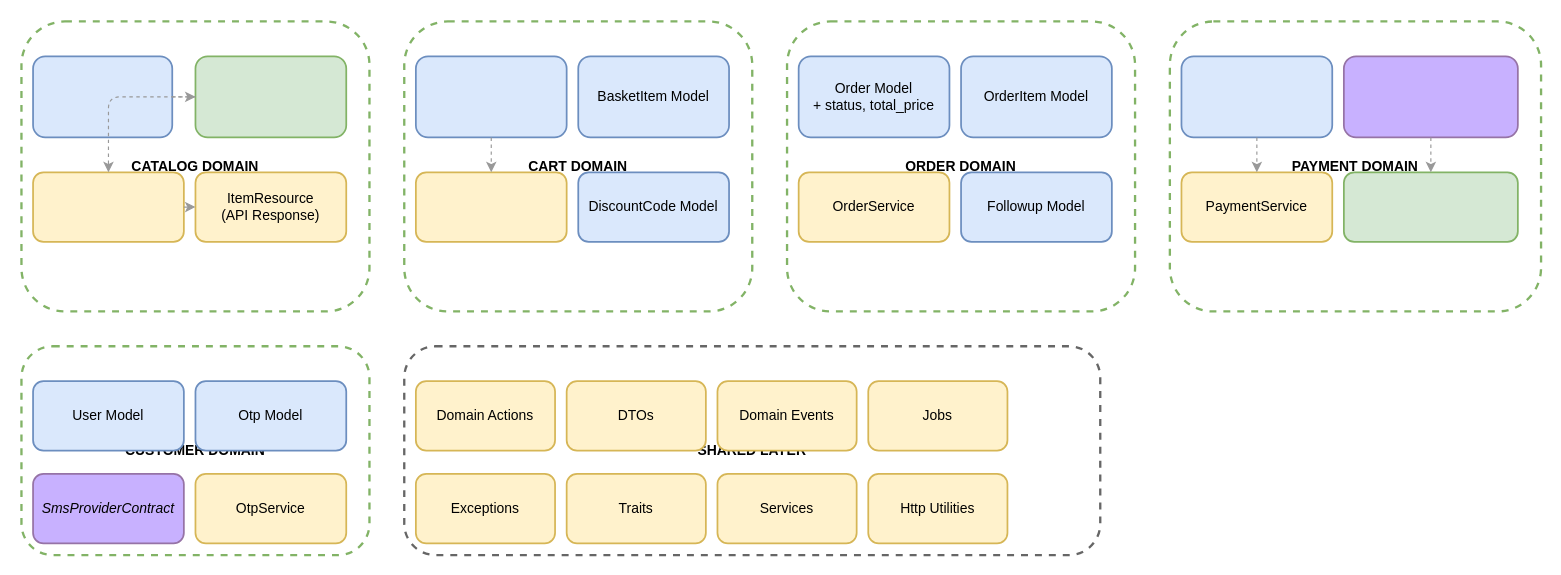
The diagram is 1561 pixels wide and 575 high, and some of its shapes have lost their labels. Here are the shapes that lost their labels. From the top down, the centre of each, then its label:
the point at 102,96: Item Model + name, price, stock
the point at 270,96: ItemRepository
the point at 490,96: Basket Model + total_amount, discount
the point at 1256,96: Payment Model
the point at 1430,96: PaymentGatewayContract
the point at 108,206: CatalogService
the point at 490,206: BasketService
the point at 1430,206: Zarinpal FakePayment
